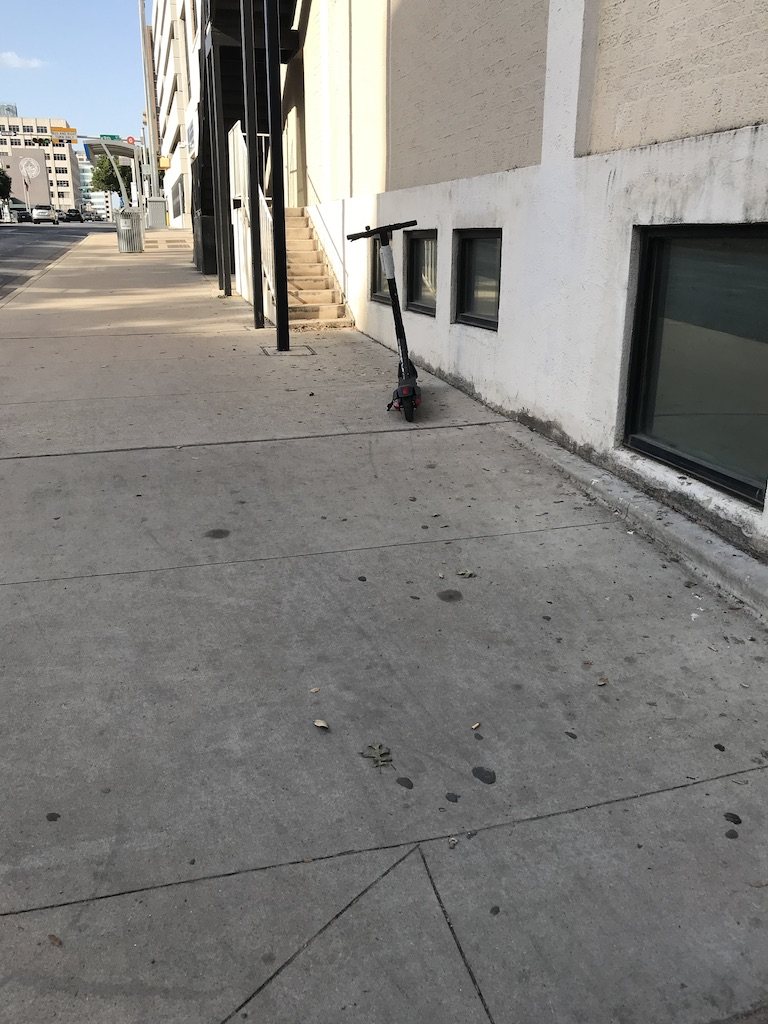scooter: (347, 220, 423, 423)
